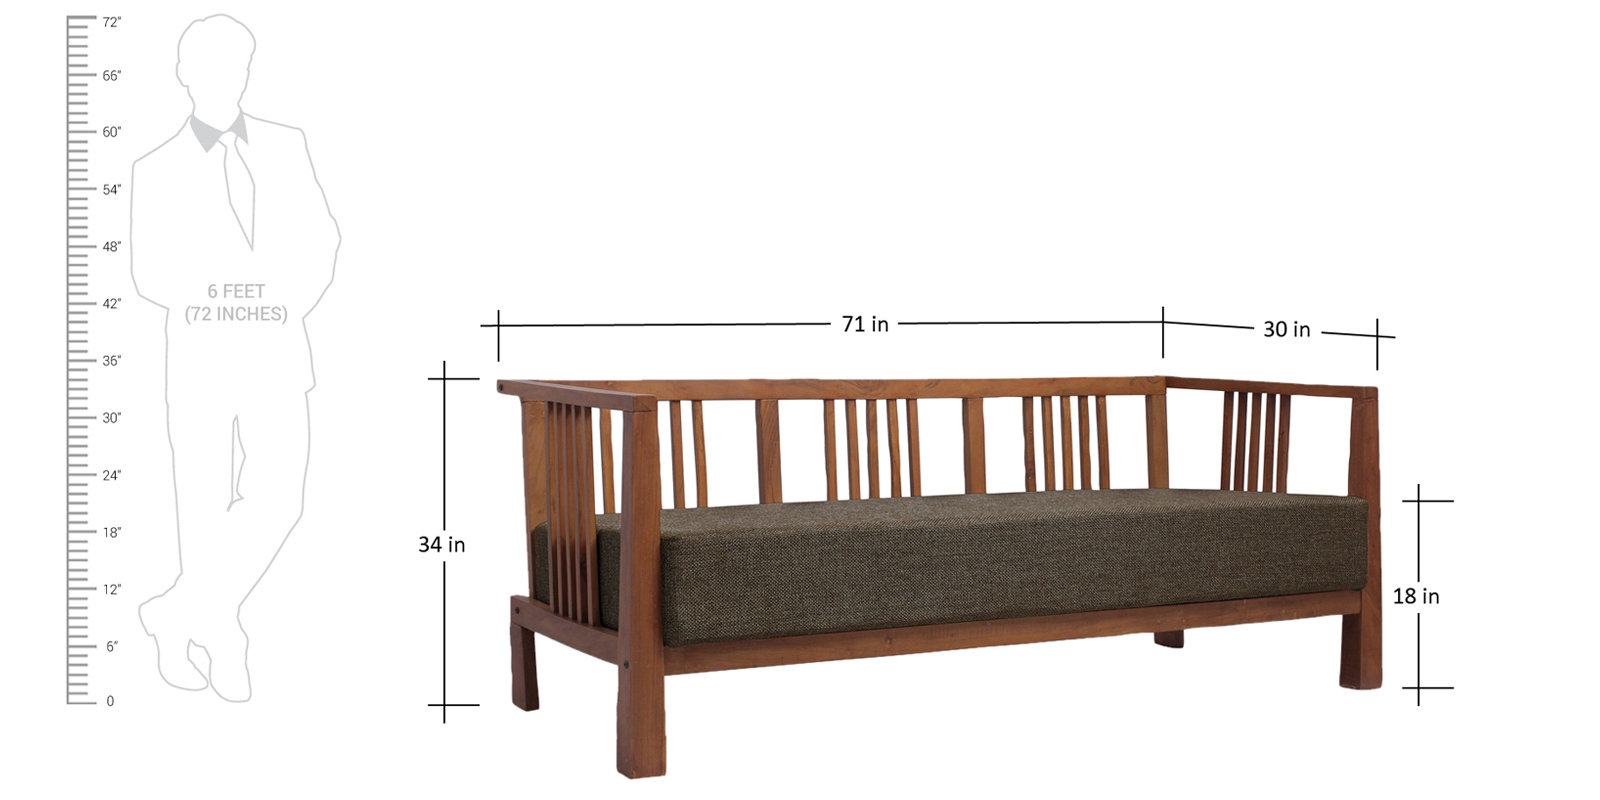Dijon Three Seater Sofa in Dark Brown Colour by Auspicious Home: (491, 368, 1392, 785)
